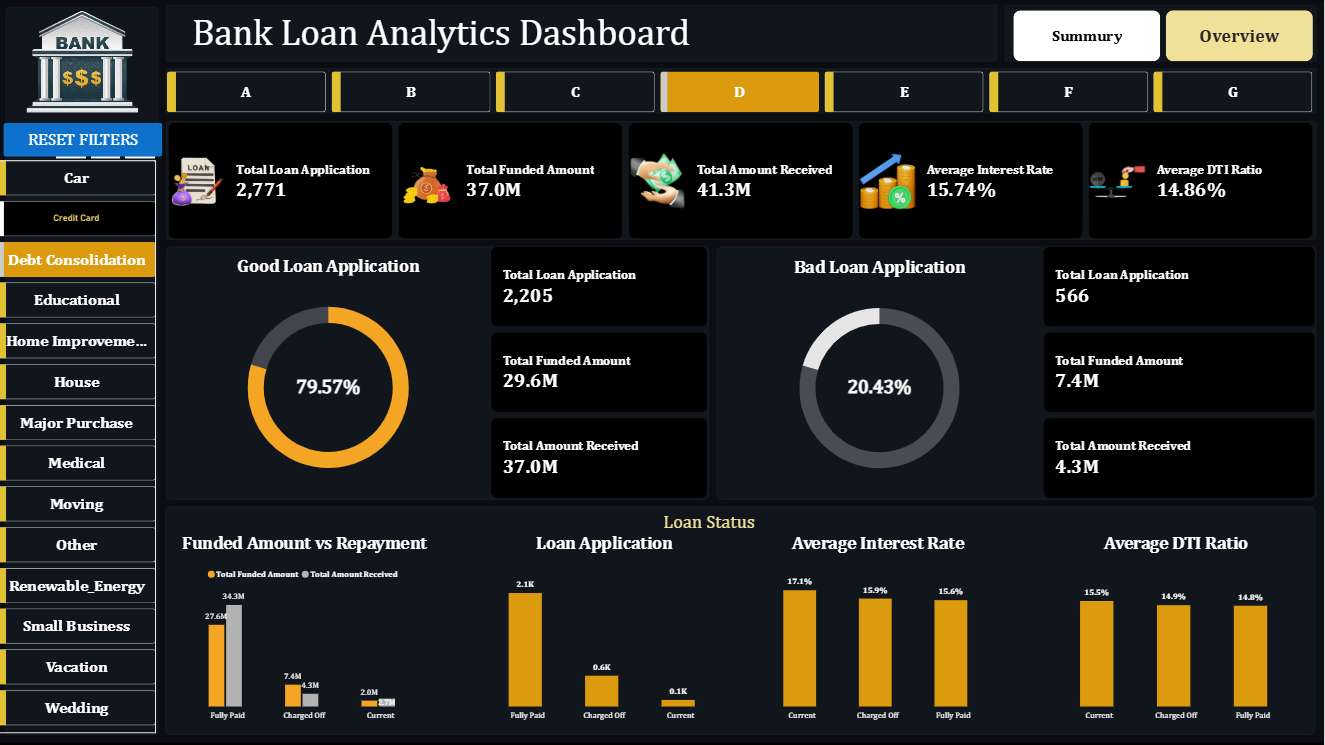

Layout of this report page (visuals, bound fields, positions):
{"tool":"powerbi","page":{"name":"Summary","canvas":[1920,1080],"ordinal":0},"visuals":[{"type":"cardVisual","fields":{"Data":["financial_loan.Total Loan Application","financial_loan.Total Funded Amount","financial_loan.Total Amount Received","financial_loan.Average Interest Rate","financial_loan.Average DTI Rate"]},"box":[250,187.8,1653.3,153.3],"z":0},{"type":"donutChart","title":"Good Loan Application","fields":{"Category":["financial_loan.Good_vs_Bad_Loan"],"Y":["financial_loan.Total Loan Application"]},"box":[272.9,368.6,421.4,342.9],"z":1000},{"type":"donutChart","title":"Bad Loan Application","fields":{"Category":["financial_loan.Good_vs_Bad_Loan"],"Y":["financial_loan.Total Loan Application"]},"box":[1077.1,368.6,421.4,342.9],"z":2000},{"type":"cardVisual","fields":{"Data":["financial_loan.Good Loan %"]},"box":[394.3,514.3,180,88.6],"z":3000},{"type":"cardVisual","fields":{"Data":["financial_loan.Bad Loan %"]},"box":[1197.1,514.3,180,88.6],"z":4000},{"type":"cardVisual","fields":{"Data":["financial_loan.Total Loan Application","financial_loan.Total Funded Amount","financial_loan.Total Amount Received"],"Rows":["financial_loan.Good_vs_Bad_Loan"]},"box":[651.4,368.6,350,342.9],"z":5000},{"type":"cardVisual","fields":{"Data":["financial_loan.Total Loan Application","financial_loan.Total Funded Amount","financial_loan.Total Amount Received"],"Rows":["financial_loan.Good_vs_Bad_Loan"]},"box":[1538.6,368.6,350,342.9],"z":6000},{"type":"clusteredColumnChart","title":"Funded Amount vs Repayment","fields":{"Category":["financial_loan.LOAN_STATUS"],"Y":["financial_loan.Total Funded Amount","financial_loan.Total Amount Received"]},"box":[250,761.4,412.9,305.7],"z":7000},{"type":"clusteredColumnChart","title":"Loan Application","fields":{"Category":["financial_loan.LOAN_STATUS"],"Y":["financial_loan.Total Loan Application"]},"box":[651.2,761.2,401.2,305],"z":8000},{"type":"textbox","box":[941.2,747.5,222.5,112.5],"z":9000},{"type":"clusteredColumnChart","title":"Average Interest Rate","fields":{"Category":["financial_loan.LOAN_STATUS"],"Y":["financial_loan.Average Interest Rate"]},"box":[1072.9,761.4,401.4,318.6],"z":10000},{"type":"clusteredColumnChart","title":"Average DTI Ratio","fields":{"Category":["financial_loan.LOAN_STATUS"],"Y":["financial_loan.Average DTI Ratio"]},"box":[1473.8,761.2,401.2,305],"z":11000},{"type":"image","box":[0,0,250,210],"z":12000},{"type":"advancedSlicerVisual","fields":{"Values":["financial_loan.PURPOSE"]},"box":[14.3,264.3,211.4,802.9],"z":13000},{"type":"advancedSlicerVisual","fields":{"Values":["financial_loan.GRADE"]},"box":[260,113,1643,44],"z":14000},{"type":"actionButton","box":[14.3,200,211.4,50],"z":15000},{"type":"textbox","box":[250,24.3,1197.1,68.6],"z":16000},{"type":"pageNavigator","box":[1488.6,24.3,400,50],"z":17000}]}

Visuals, with their boxes in screenshot pixels (x1, y1, x2, y2), scaled from the page's 1920x1080 canvas onto the 1325x745 screenshot:
cardVisual - financial_loan.Total Loan Application x financial_loan.Total Funded Amount: 173 130 1313 235
"Good Loan Application" donutChart: 188 254 479 491
"Bad Loan Application" donutChart: 743 254 1034 491
cardVisual - financial_loan.Good Loan %: 272 355 396 416
cardVisual - financial_loan.Bad Loan %: 826 355 950 416
cardVisual - financial_loan.Total Loan Application x financial_loan.Total Funded Amount: 450 254 691 491
cardVisual - financial_loan.Total Loan Application x financial_loan.Total Funded Amount: 1062 254 1303 491
"Funded Amount vs Repayment" clusteredColumnChart: 173 525 457 736
"Loan Application" clusteredColumnChart: 449 525 726 735
textbox: 650 516 803 593
"Average Interest Rate" clusteredColumnChart: 740 525 1017 744
"Average DTI Ratio" clusteredColumnChart: 1017 525 1294 735
image: 0 0 173 145
advancedSlicerVisual - financial_loan.PURPOSE: 10 182 156 736
advancedSlicerVisual - financial_loan.GRADE: 179 78 1313 108
actionButton: 10 138 156 172
textbox: 173 17 999 64
pageNavigator: 1027 17 1303 51
